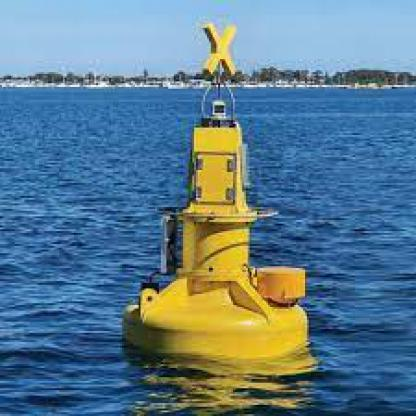buoy: (116, 17, 318, 364)
